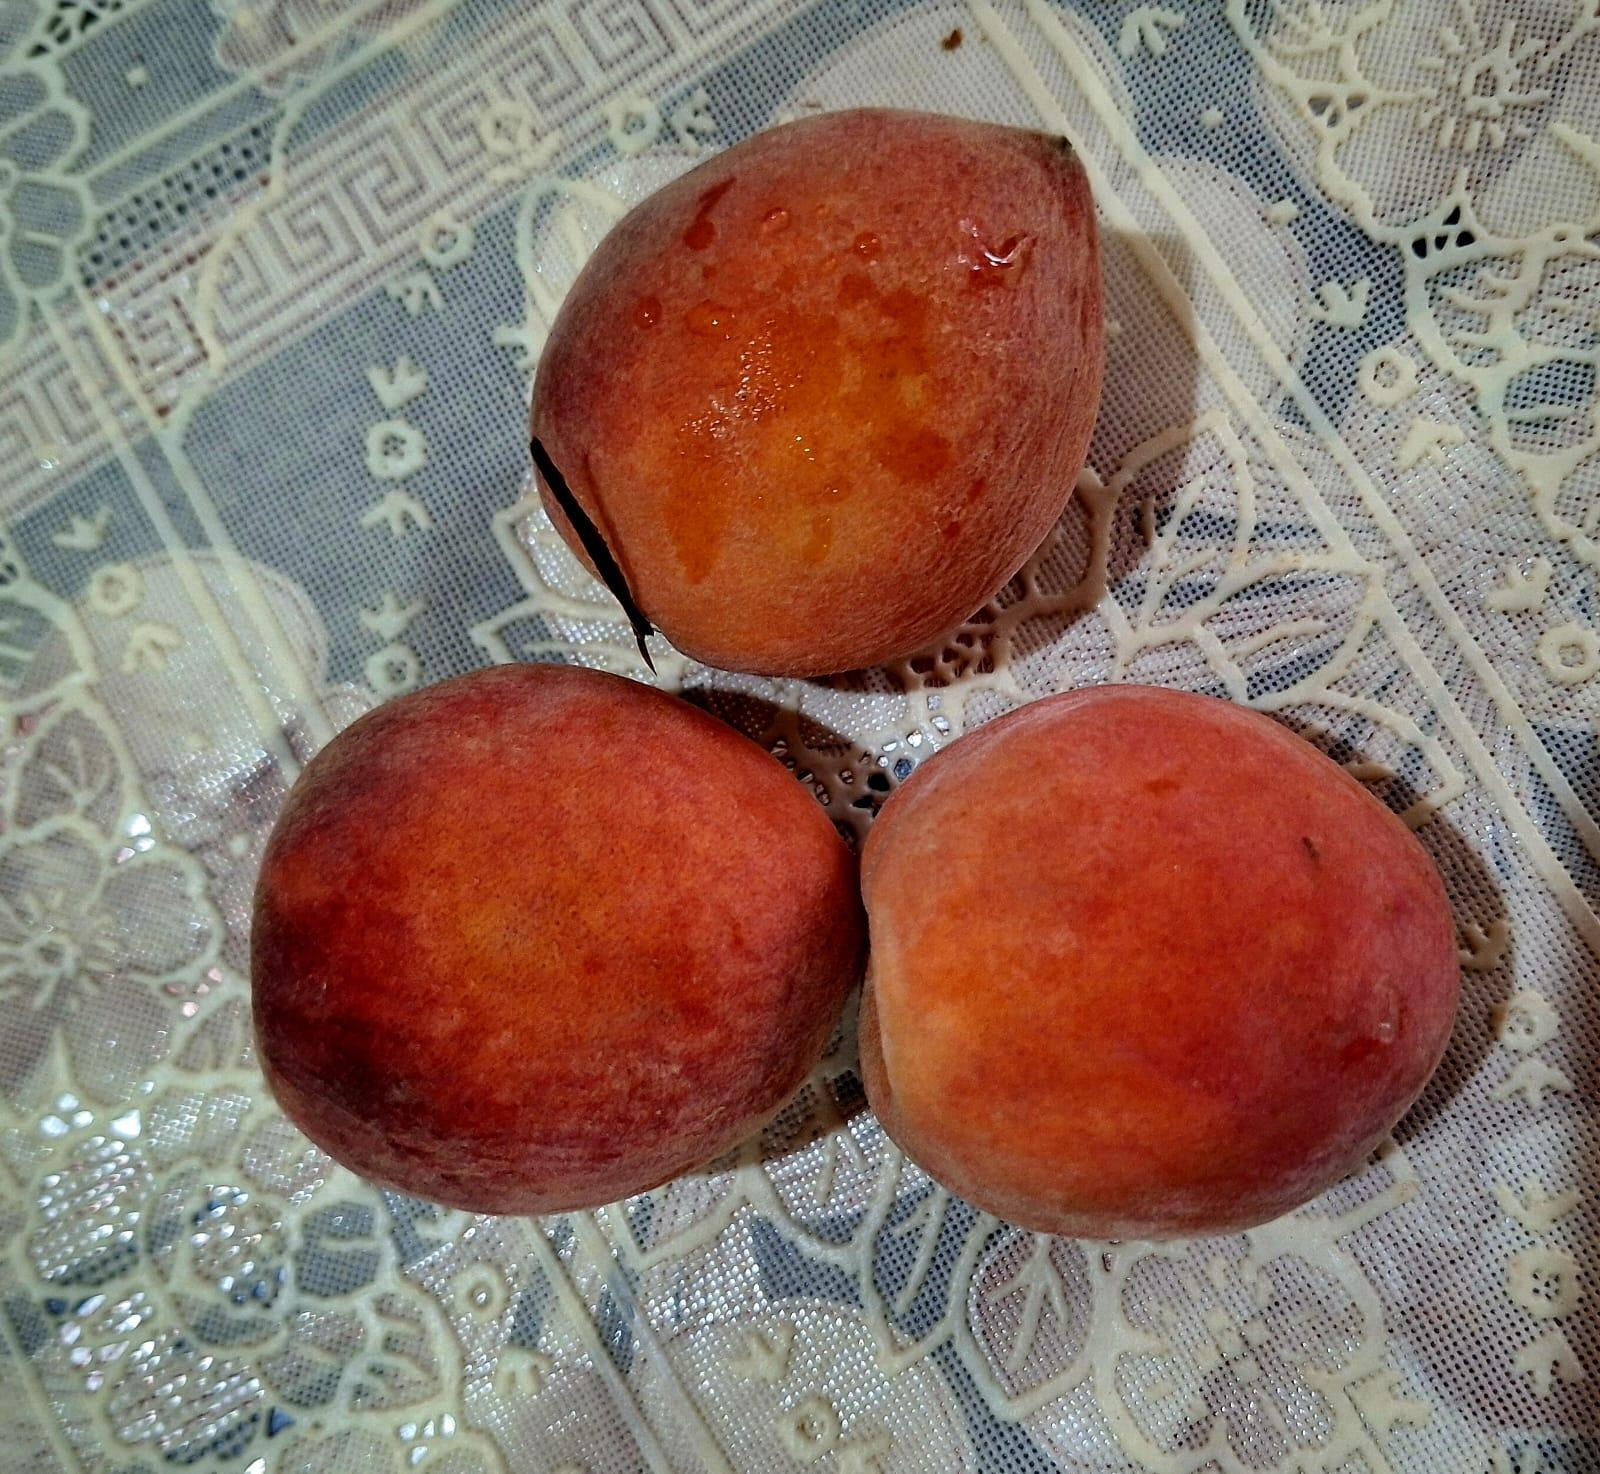non-mango: (247, 659, 863, 1216), (856, 678, 1461, 1241), (525, 103, 1107, 678)
